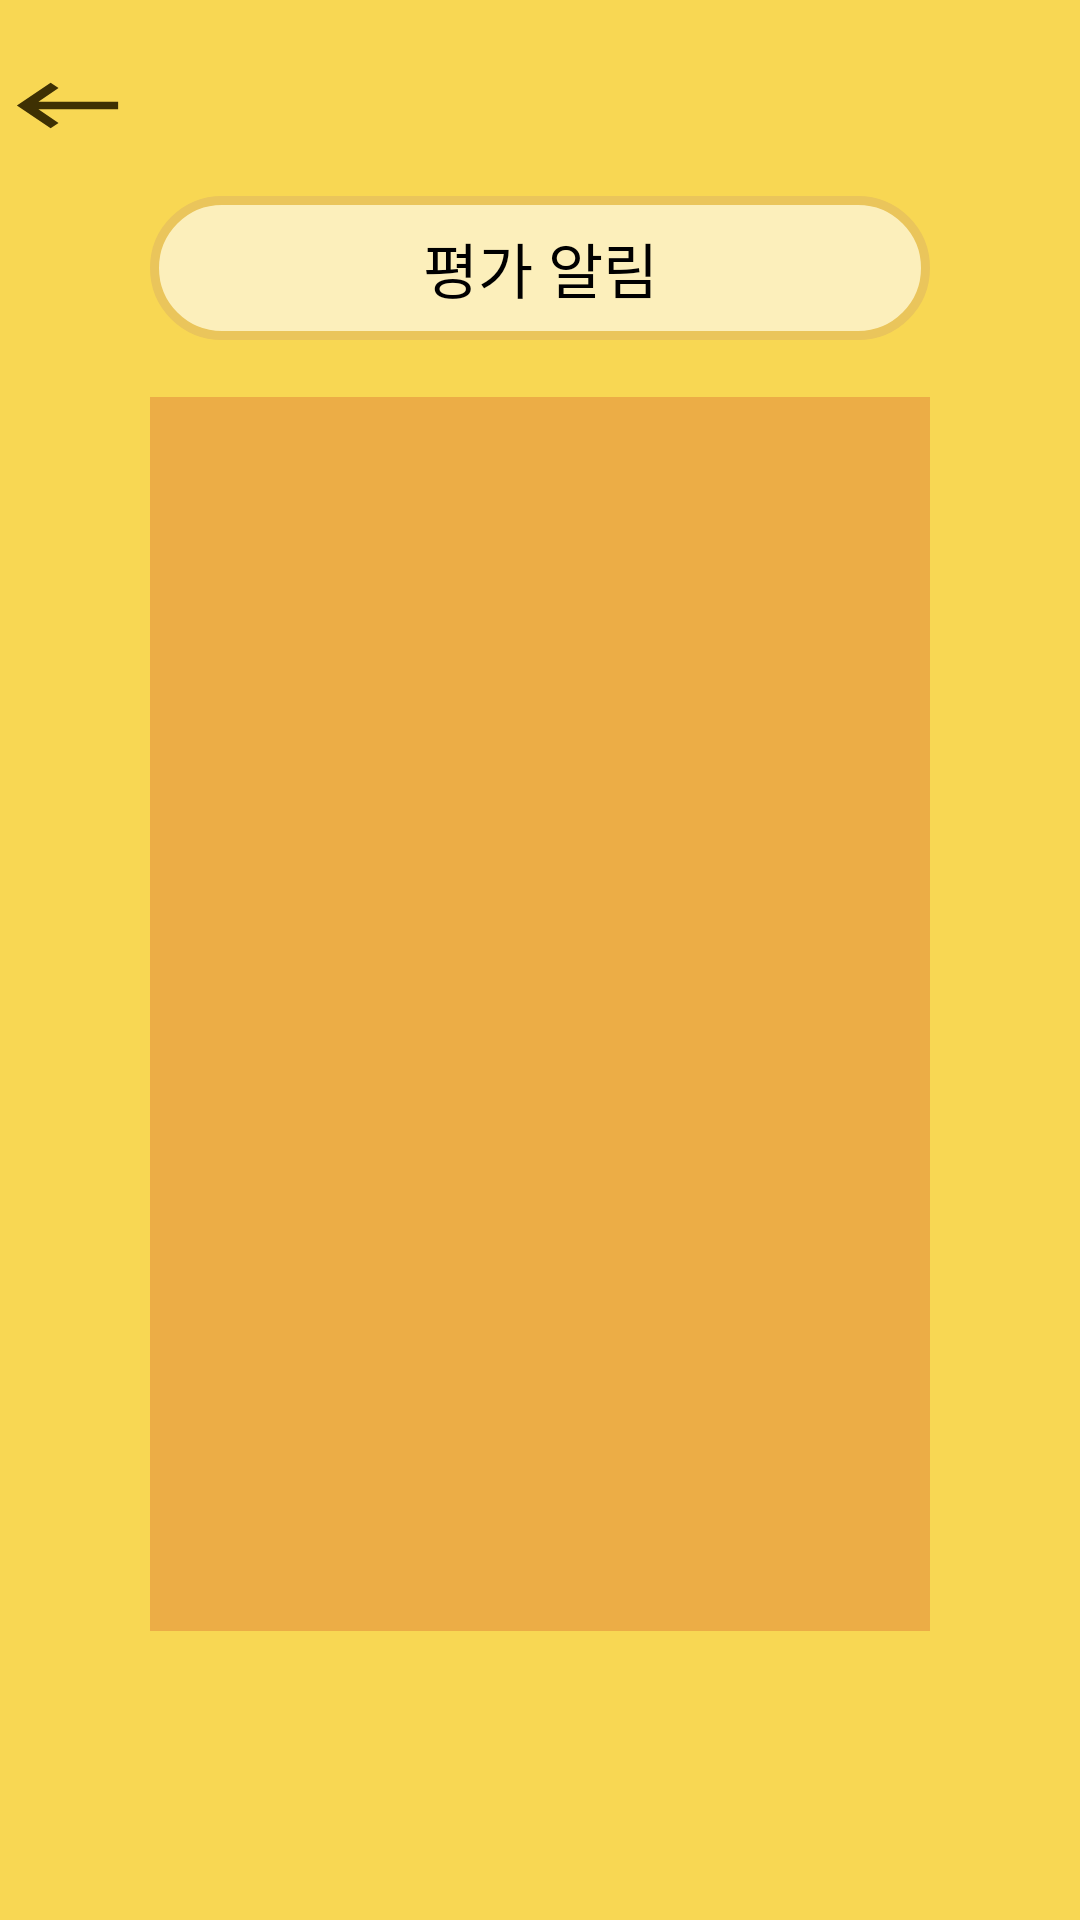

Named icons in this screenshot (1080x1920) and their bounding boxes, (x1, y1, x2, y2):
escape: (17, 83, 118, 128)
